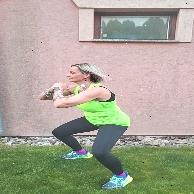squats: (36, 59, 148, 190)
